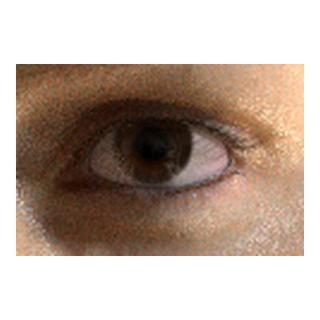pupil: (137, 128, 167, 158)
